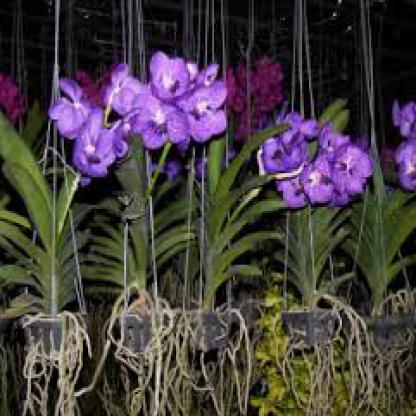ANGGREK: (34, 37, 396, 240)
